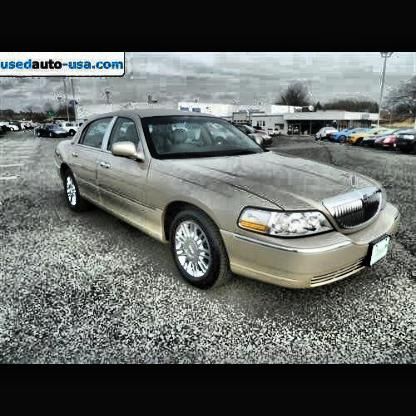Lincoln Town Car Sedan 2011: (52, 110, 400, 293)
